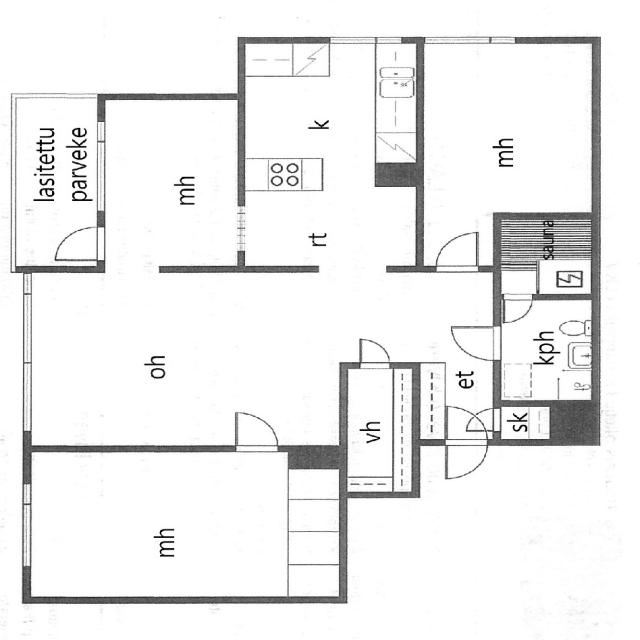door: (220, 408, 290, 456), (424, 226, 487, 274), (444, 322, 505, 363), (441, 440, 490, 481), (495, 291, 537, 326), (353, 336, 395, 369), (451, 406, 502, 433)
window: (12, 481, 40, 574), (90, 119, 111, 214), (423, 32, 522, 47), (230, 200, 252, 257), (326, 34, 399, 48)
zone: (24, 450, 323, 603), (237, 38, 413, 274), (419, 41, 595, 219), (98, 96, 246, 270), (497, 296, 596, 404), (344, 364, 413, 496), (492, 211, 598, 296), (47, 223, 108, 265), (496, 403, 551, 442), (442, 440, 488, 482)
